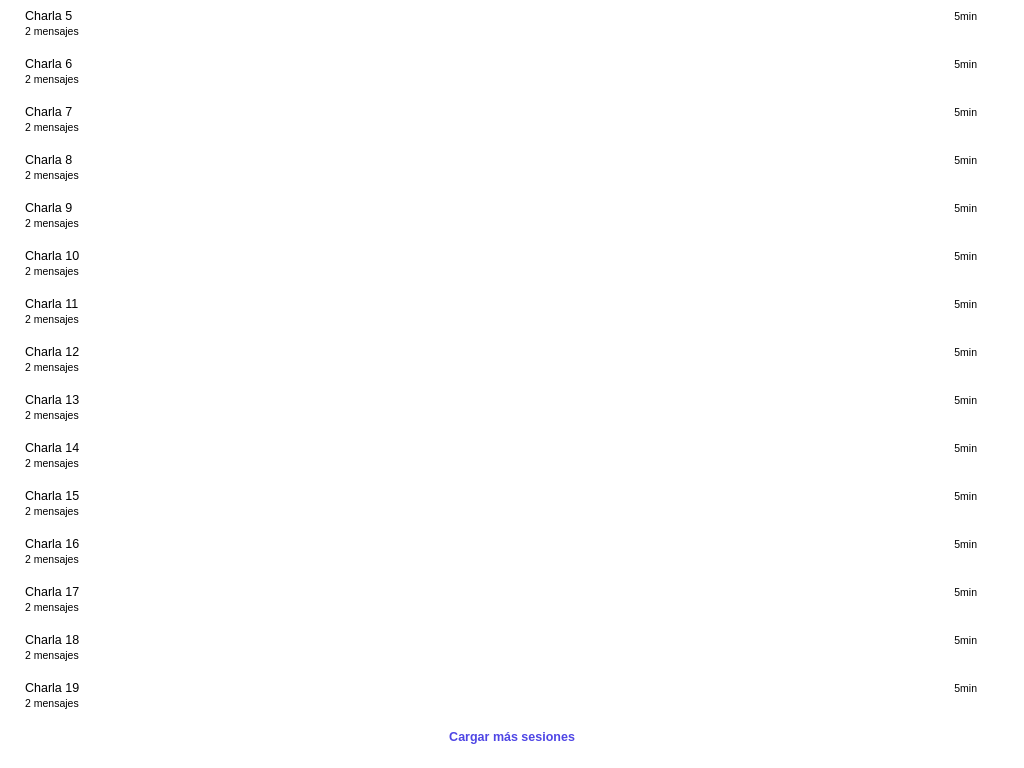
HistoryDropdown › con 20 conversaciones (el límite inicial) ofrece cargar más
(page scrolled)
Click the button "Cargar más sesiones" at (512, 737), box [14,722,1010,752]
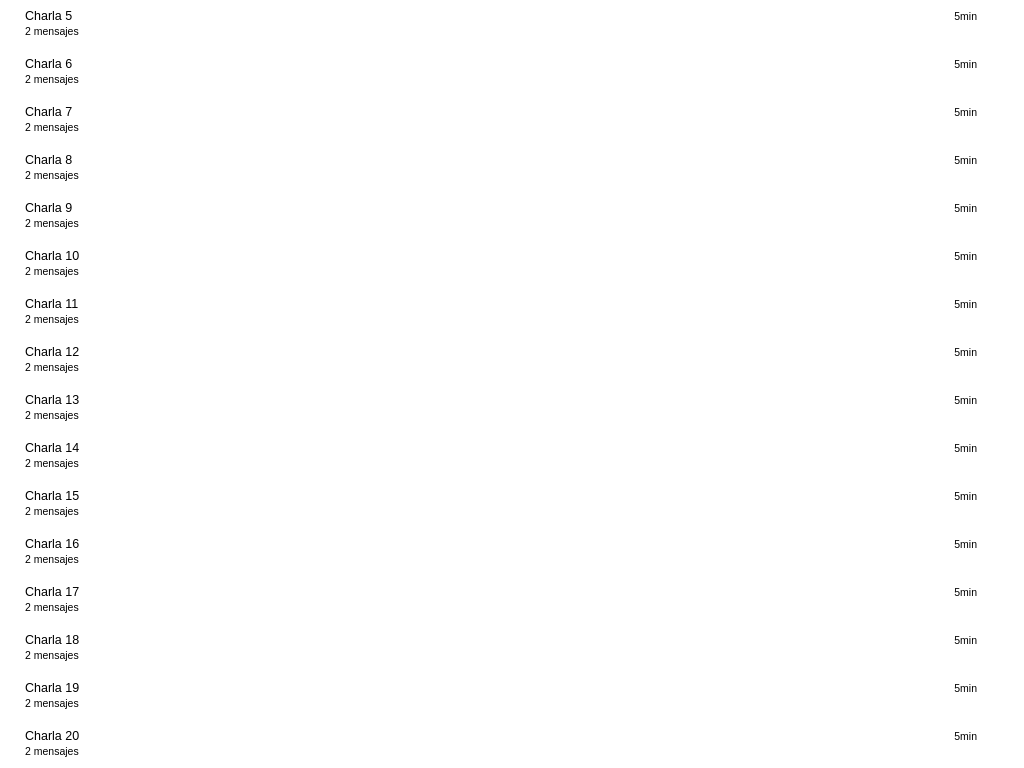
Expected: the text "Charla 20" is shown, [25,729,79,743]
